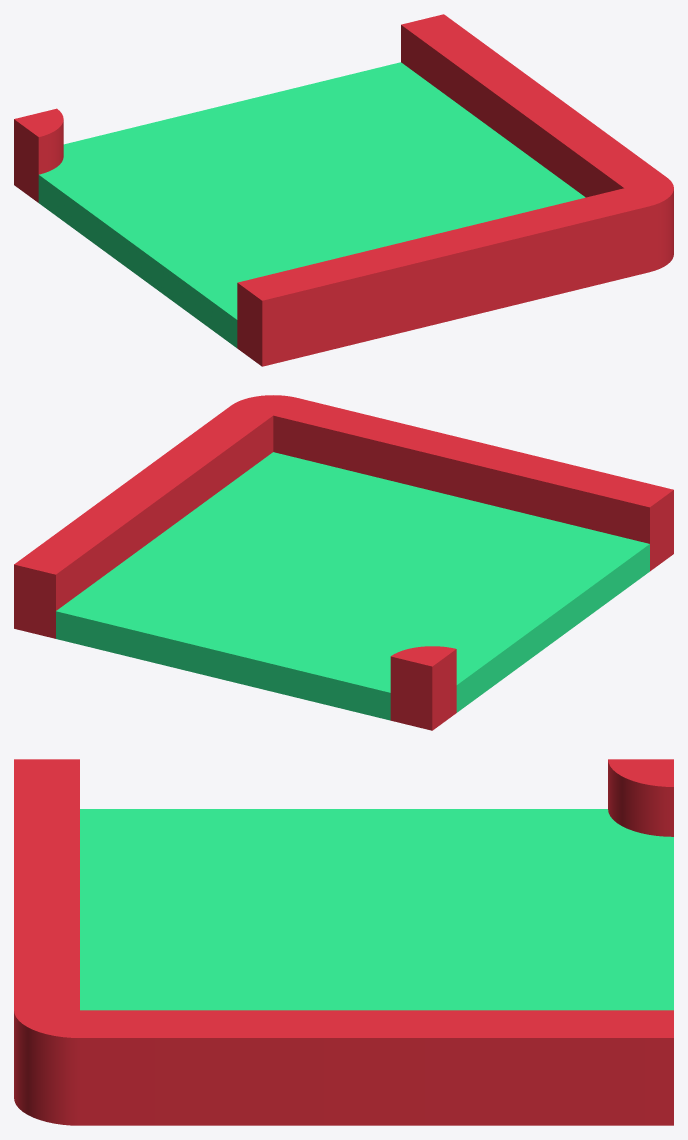
Rendered from squareCornerA.fbx.
3 views of the same model, one above another, from view 1: azimuth 30°, elevation 25°; view 2: azimuth 150°, elevation 25°; view 3: azimuth 270°, elevation 25° (orthographic). The views are drawn at different scales.
Parts seen in each view (by area): view 1: squareCornerA; view 2: squareCornerA; view 3: squareCornerA.
Boxes of the visible parts, x1,y1,x2,y2 form: squareCornerA: (14,14,673,366); squareCornerA: (14,395,673,730); squareCornerA: (14,759,673,1125).
Bounding box in the file's own units: 10 × 1.47 × 10.
